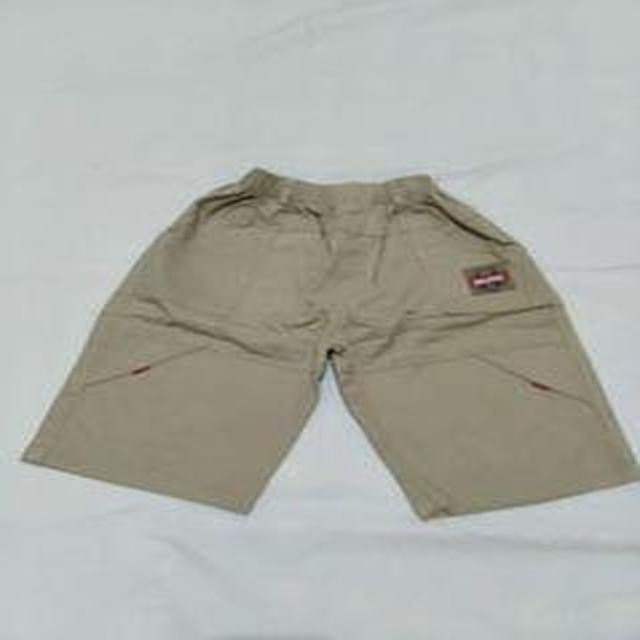SHORT: (23, 154, 640, 552)
